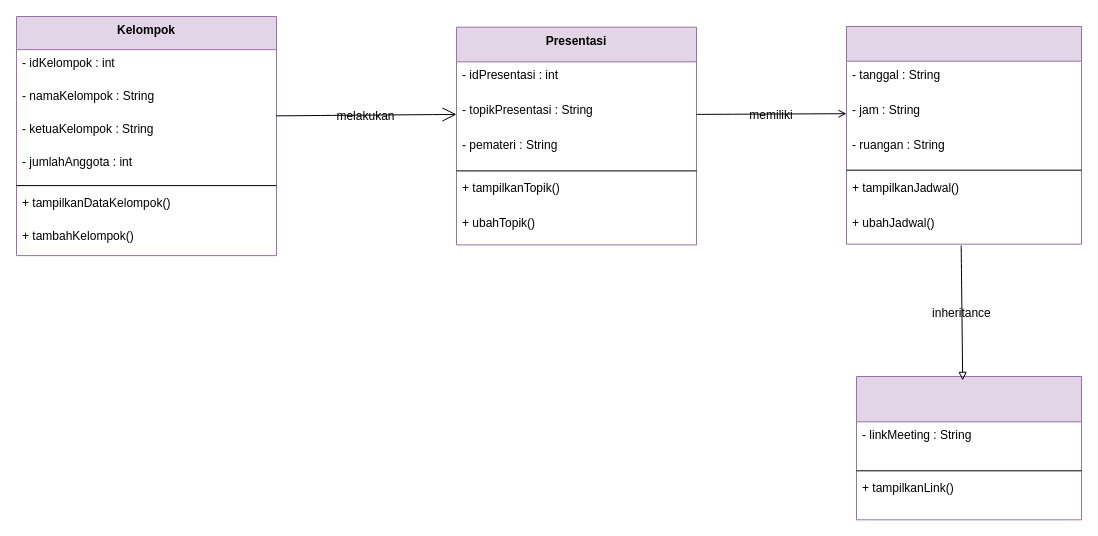
Image size: 1098x536. Some labels were removed from this diagram. Each missing label, with the box of its shape:
JadwalOnline: (856, 376, 1082, 520)
JadwalPresentasi: (846, 26, 1082, 244)
